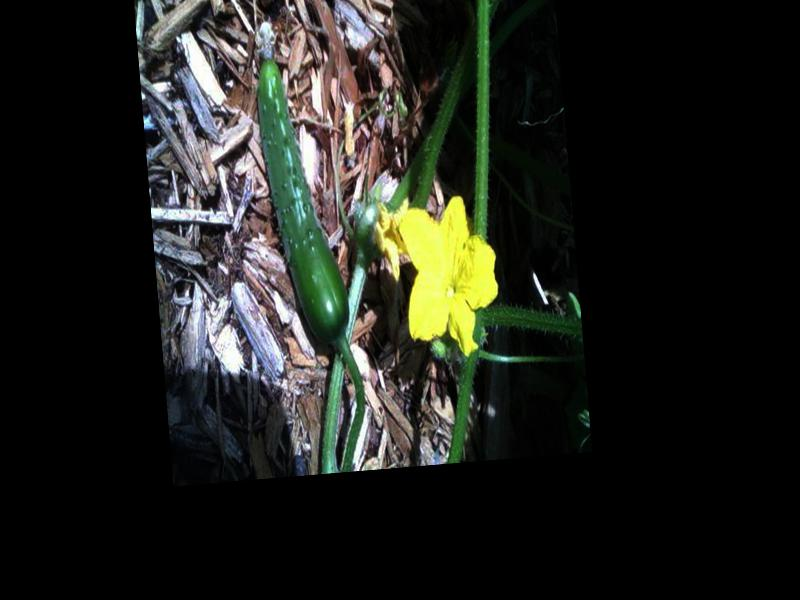Cucumber: (248, 23, 352, 352)
